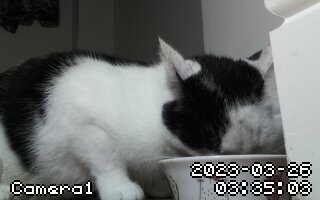bad: (3, 41, 275, 192)
